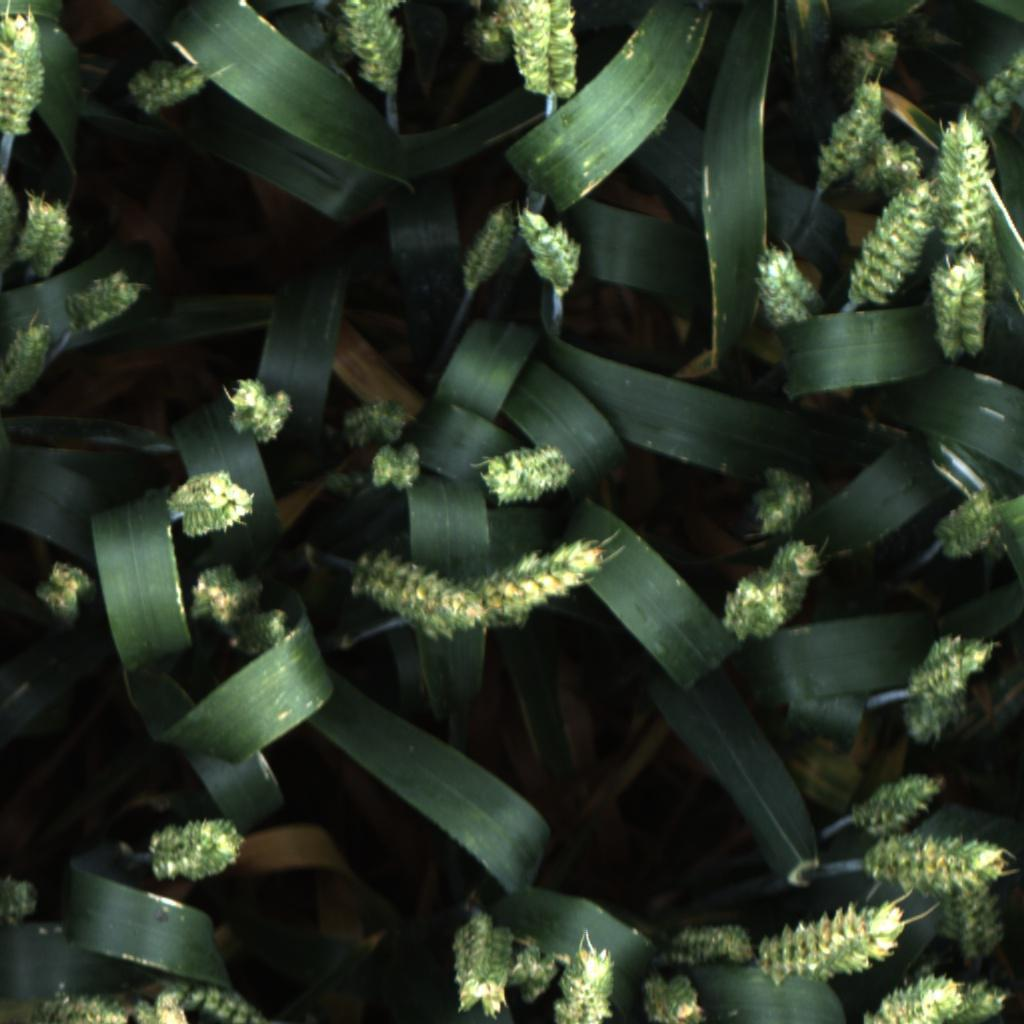0-0: (751, 902, 907, 996), (715, 540, 825, 656), (352, 553, 484, 643), (847, 179, 936, 312), (479, 535, 610, 624), (804, 79, 895, 187), (863, 833, 1006, 901), (501, 0, 591, 104), (446, 902, 520, 1022), (931, 112, 996, 246), (653, 912, 768, 979), (478, 435, 575, 512), (144, 816, 250, 886), (740, 241, 823, 330), (929, 253, 993, 365), (905, 624, 1003, 697), (119, 51, 221, 117), (845, 770, 942, 837), (0, 11, 51, 138), (337, 0, 408, 91), (516, 206, 587, 295), (165, 470, 256, 538), (161, 972, 280, 1024), (218, 371, 299, 447), (17, 192, 81, 283), (739, 467, 821, 538), (857, 971, 961, 1024), (937, 886, 1012, 958), (933, 485, 1001, 564), (28, 554, 103, 625), (460, 199, 516, 293), (552, 948, 620, 1024), (952, 224, 1014, 307), (965, 40, 1024, 126), (62, 268, 142, 331), (29, 977, 136, 1024), (0, 320, 57, 408), (498, 932, 561, 1011), (191, 558, 264, 625), (898, 692, 974, 754), (457, 0, 523, 66), (835, 24, 902, 87), (868, 127, 927, 197), (338, 396, 414, 449), (0, 171, 39, 271), (363, 443, 429, 498), (230, 607, 297, 659), (639, 974, 706, 1024), (107, 989, 196, 1024), (952, 978, 1013, 1024), (0, 873, 44, 927), (367, 0, 408, 29)
